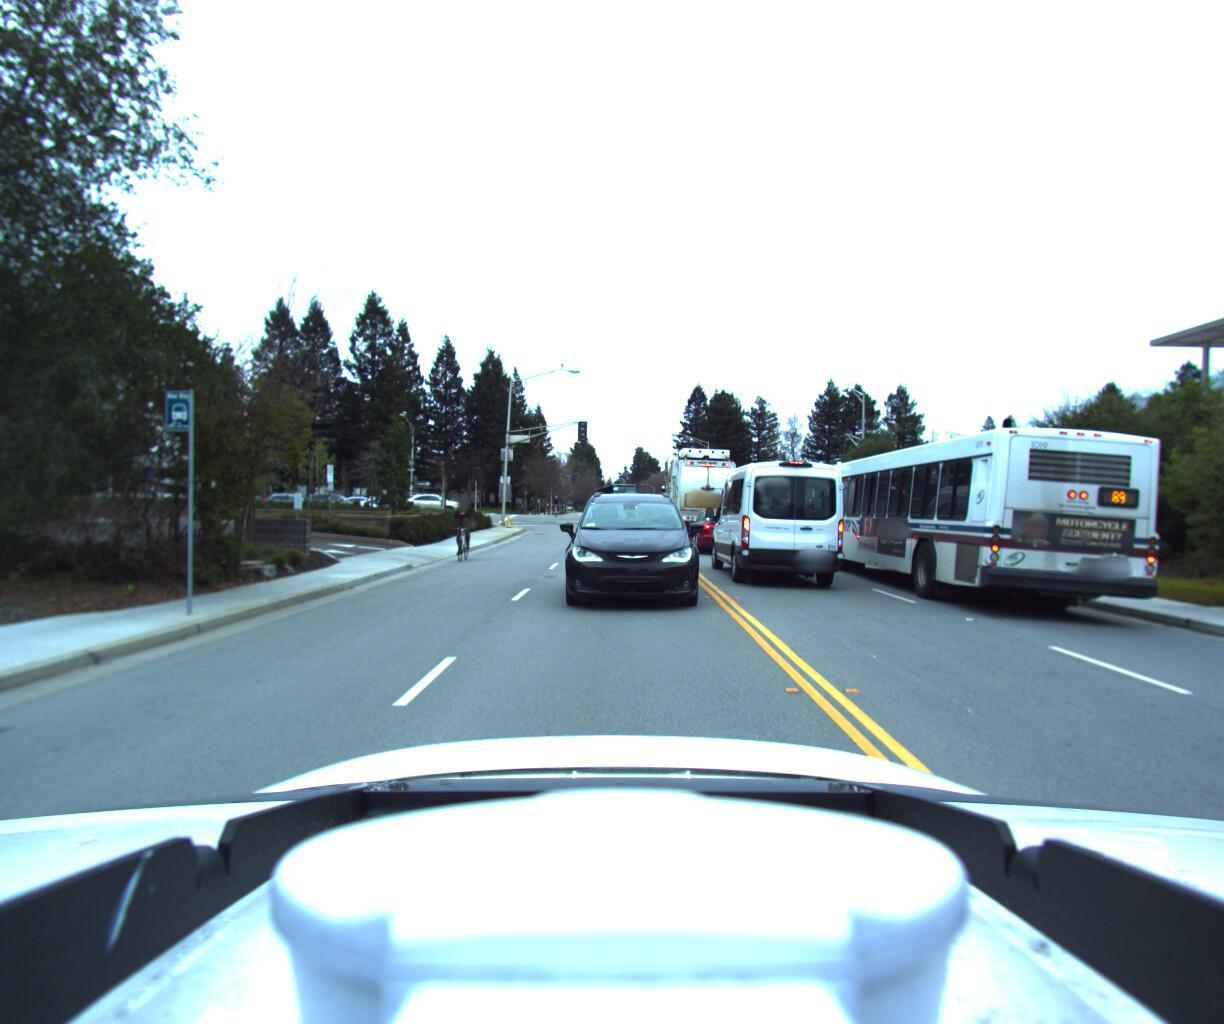bicycle: (440, 495, 481, 564), (546, 494, 559, 517)
bus: (806, 425, 1169, 633), (588, 480, 635, 515)
car: (551, 488, 695, 622), (703, 459, 845, 592), (679, 509, 756, 559), (399, 493, 463, 516)
truck: (655, 440, 735, 544)
